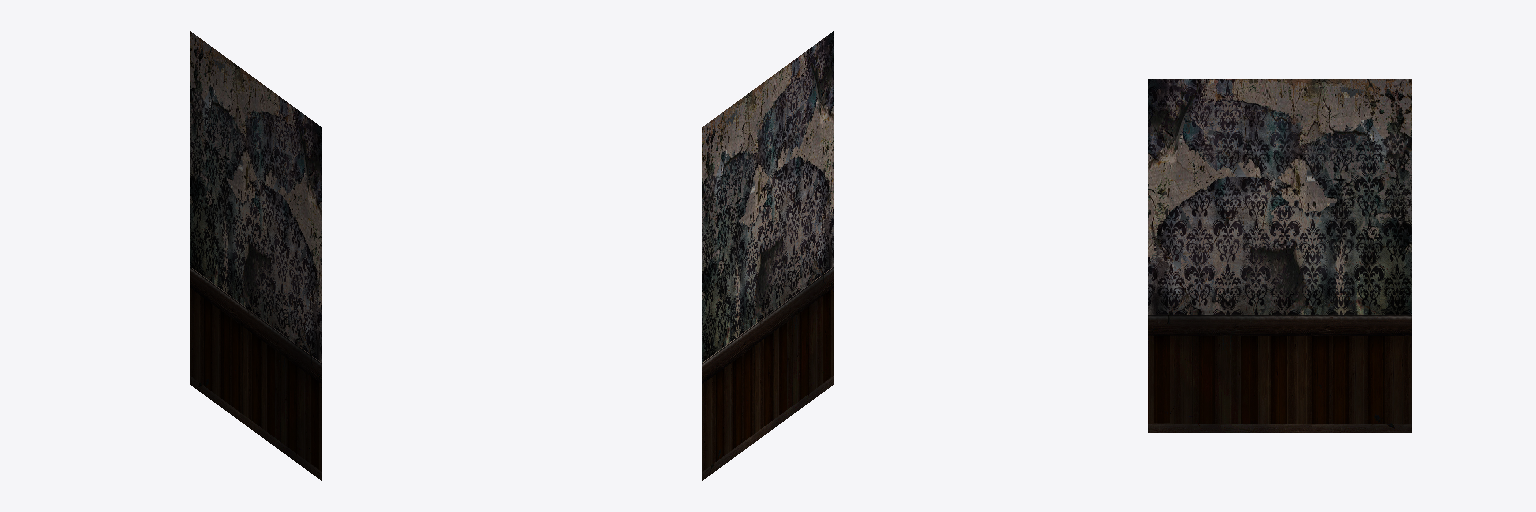
3 renders of one model, left to right at view 1: azimuth 30°, elevation 25°; view 2: azimuth 150°, elevation 25°; view 3: azimuth 270°, elevation 25°, orthographic.
Visible parts, largest first — view 1: Cube; view 2: Cube; view 3: Cube.
Part boxes in pixels (x1,y1,x2,y2): Cube: (190, 31, 321, 480); Cube: (702, 31, 833, 480); Cube: (1148, 79, 1411, 432).
Size of the model in its own units: 0 by 5.92 by 4.
Materials: 1 (1 with a texture image).